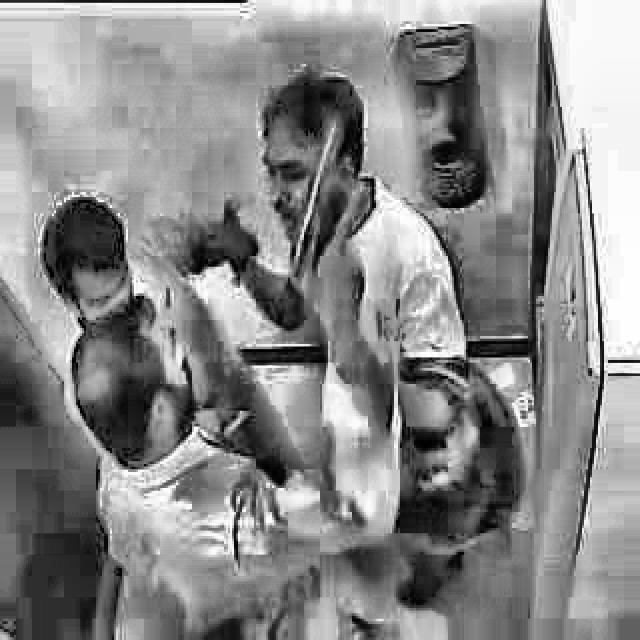robbery: (44, 70, 404, 634)
